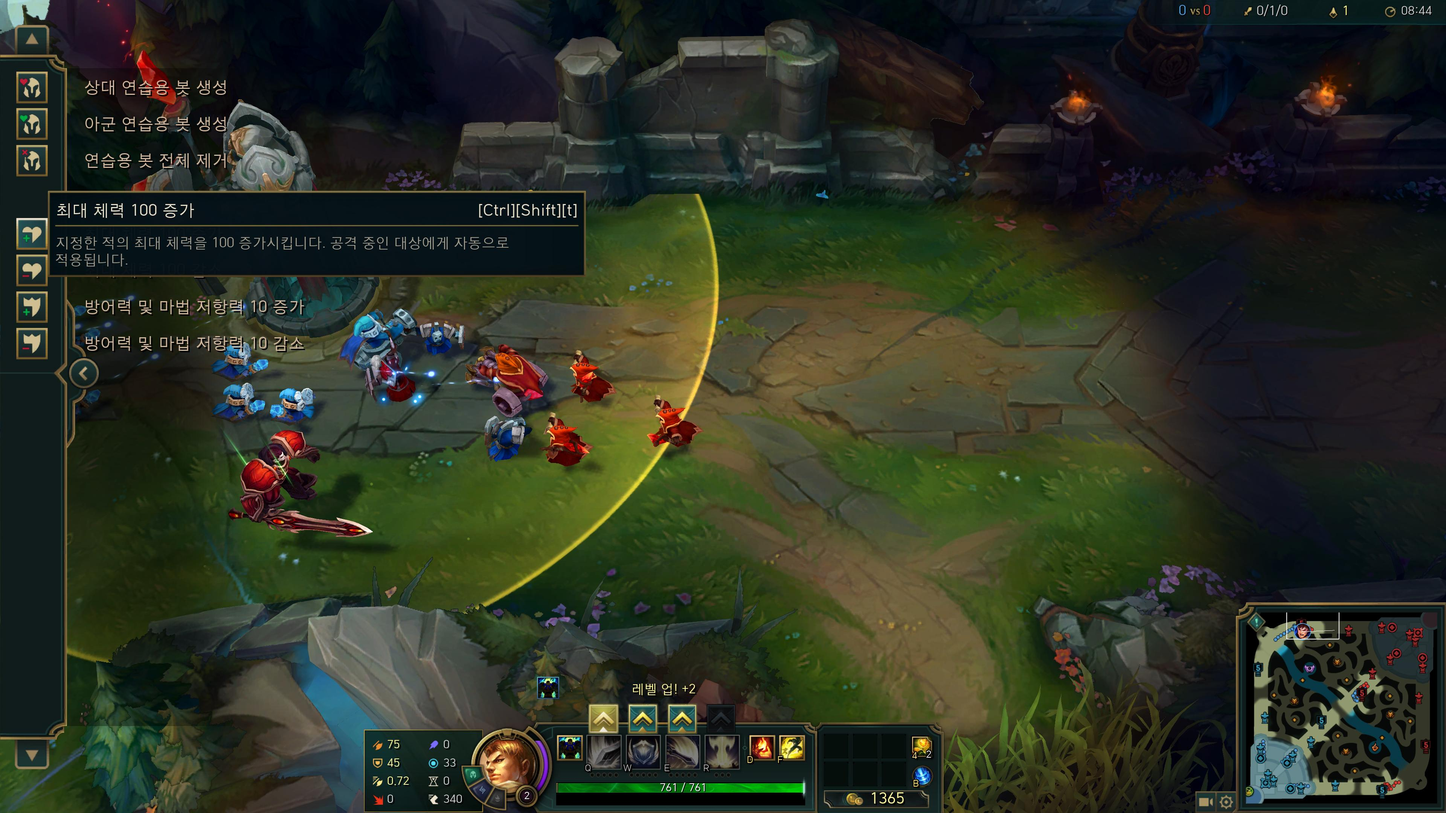ally-caster-minion: (215, 383, 264, 422), (272, 388, 316, 425)
ally-melee-minion: (484, 414, 529, 465)
ally-siege-minion: (341, 306, 417, 366)
enemy-caster-minion: (651, 399, 700, 450), (569, 352, 615, 404), (545, 416, 589, 467)
enemy-siege-minion: (466, 346, 549, 413)
